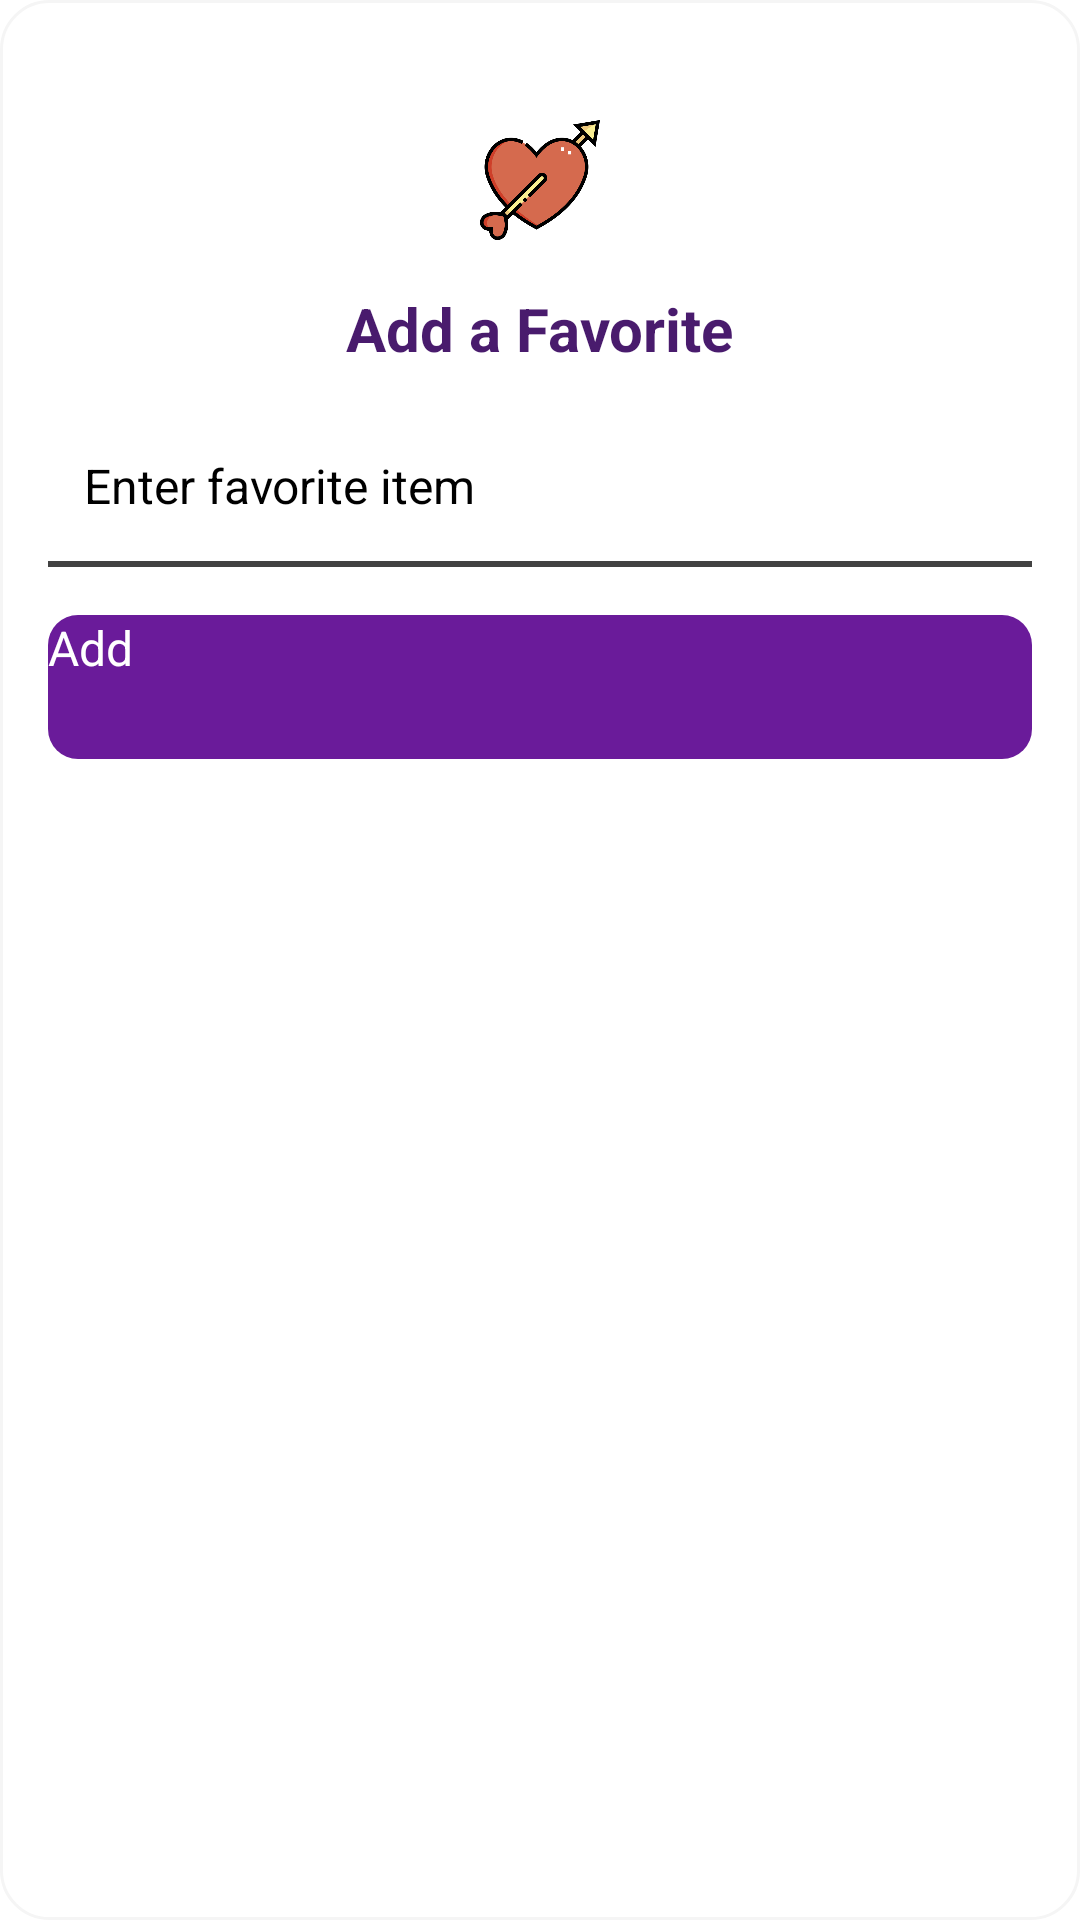

Screen size 1080x1920. Icon name, then its box in pixels as (x1=x1, y1=y1, x2=x2, y2=y2):
Category Icon: (x1=480, y1=120, x2=600, y2=240)
